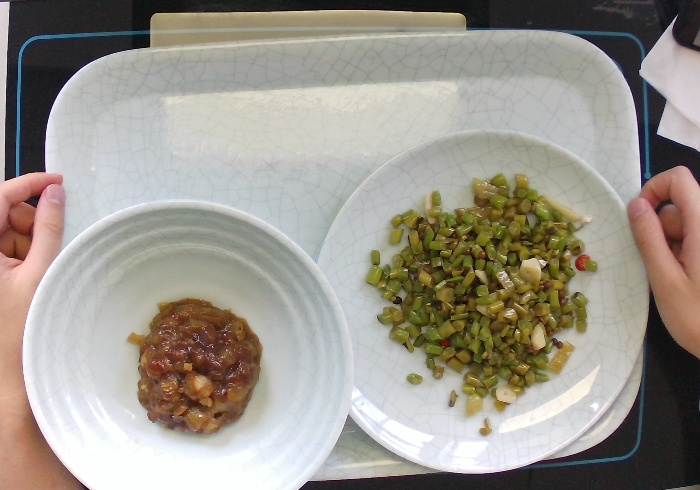JYsf-Da_Tang_Wan: (12, 195, 357, 490)
JYsf-Da_Yuan_Pan: (311, 120, 654, 479)
